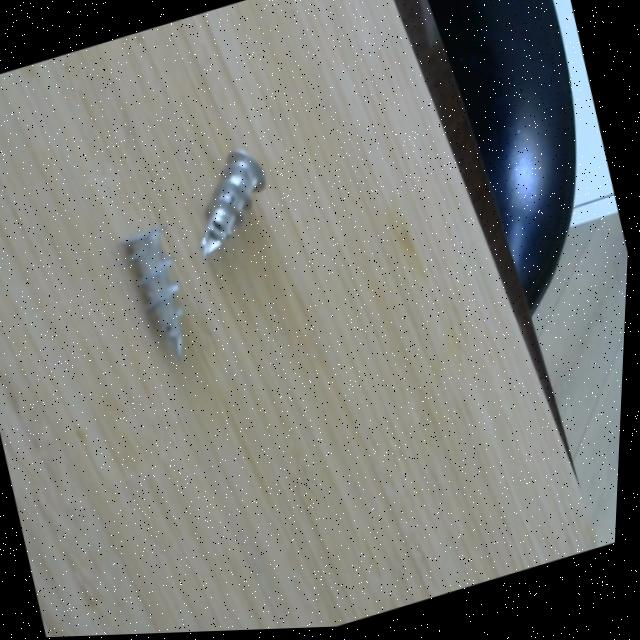Short screw: (119, 218, 200, 377), (188, 142, 278, 270)
